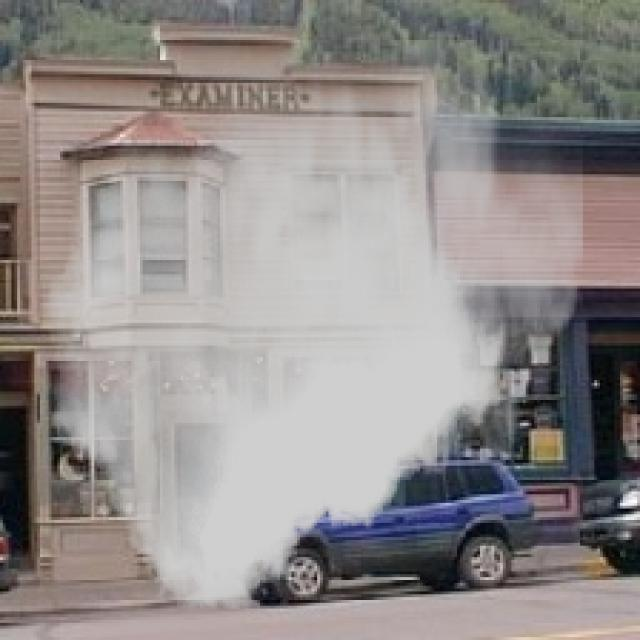smoke: (43, 40, 583, 609)
